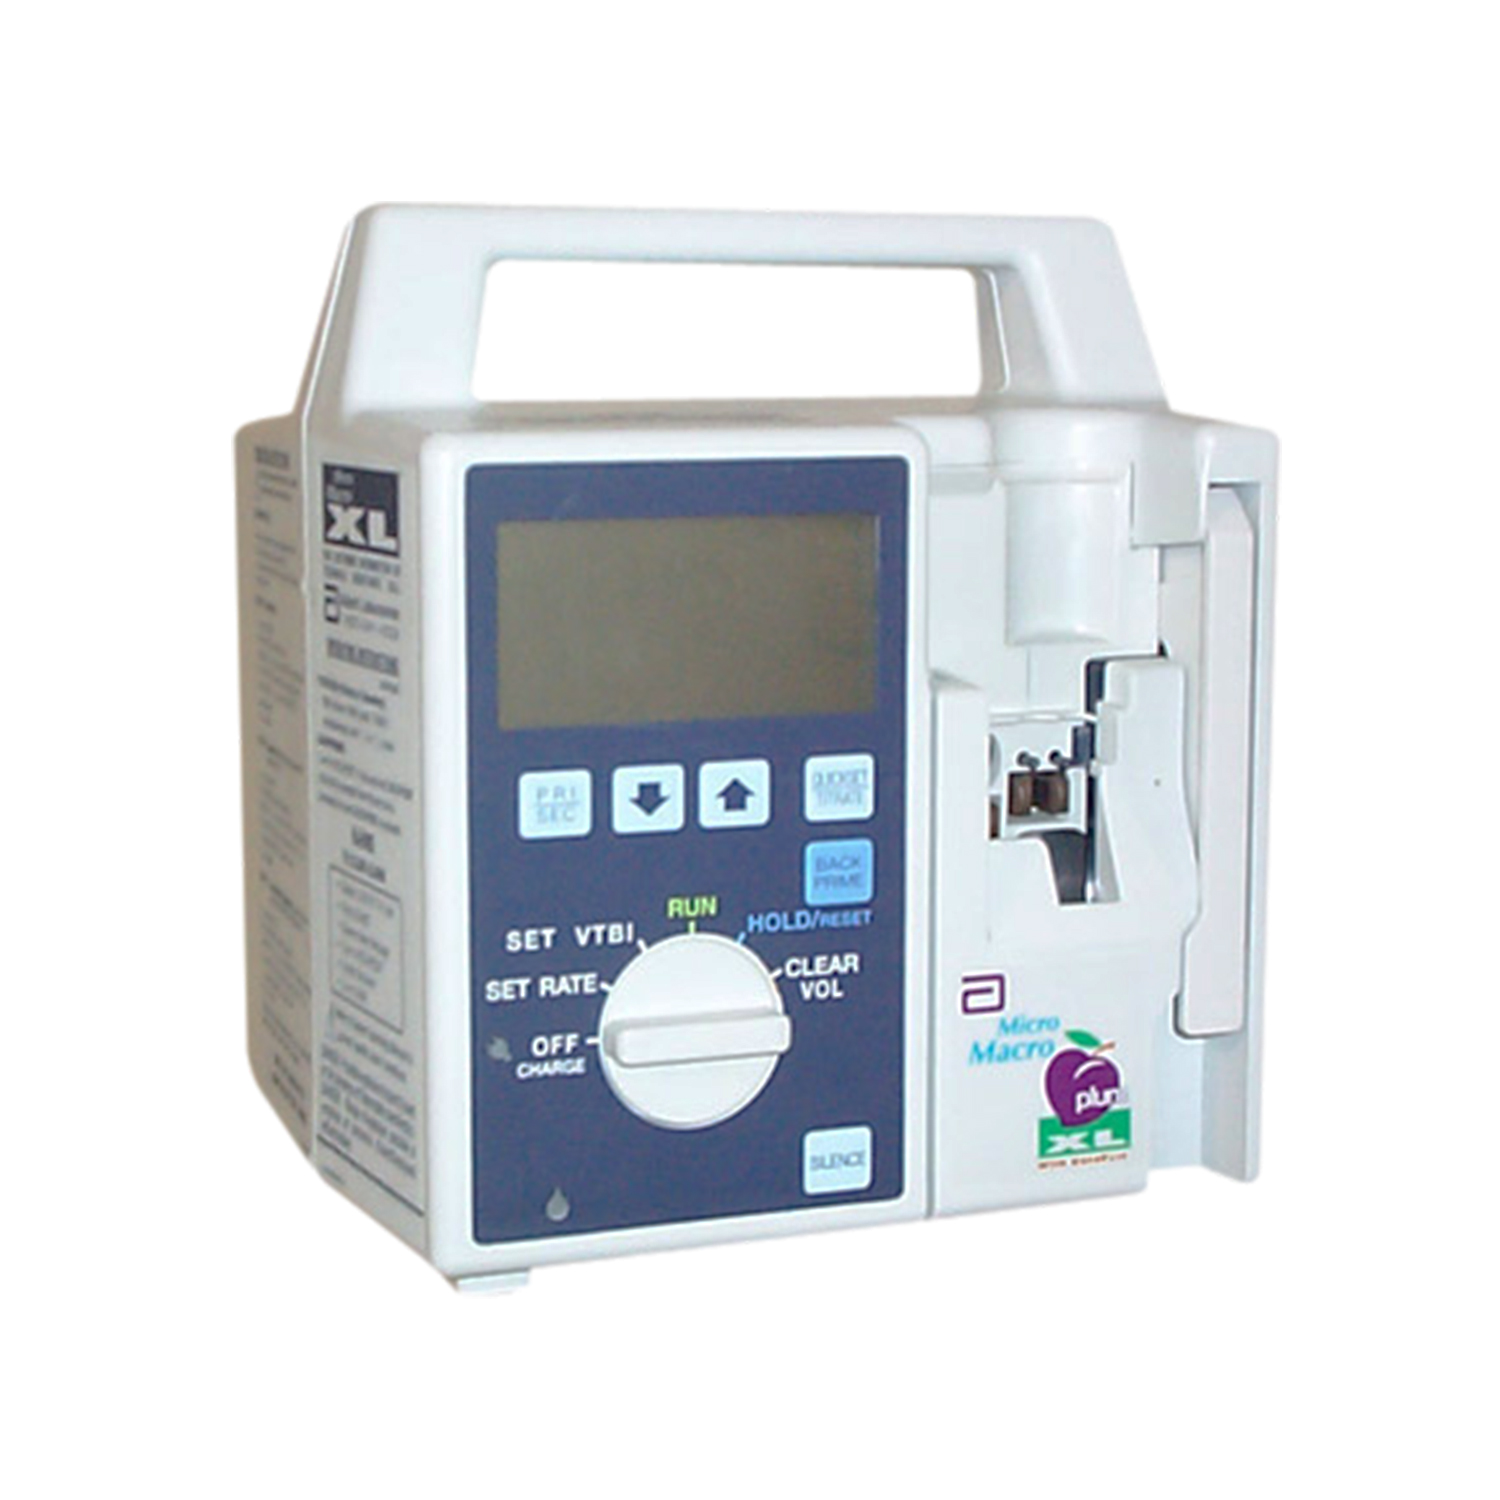plumxl1: (235, 209, 1282, 1277)
